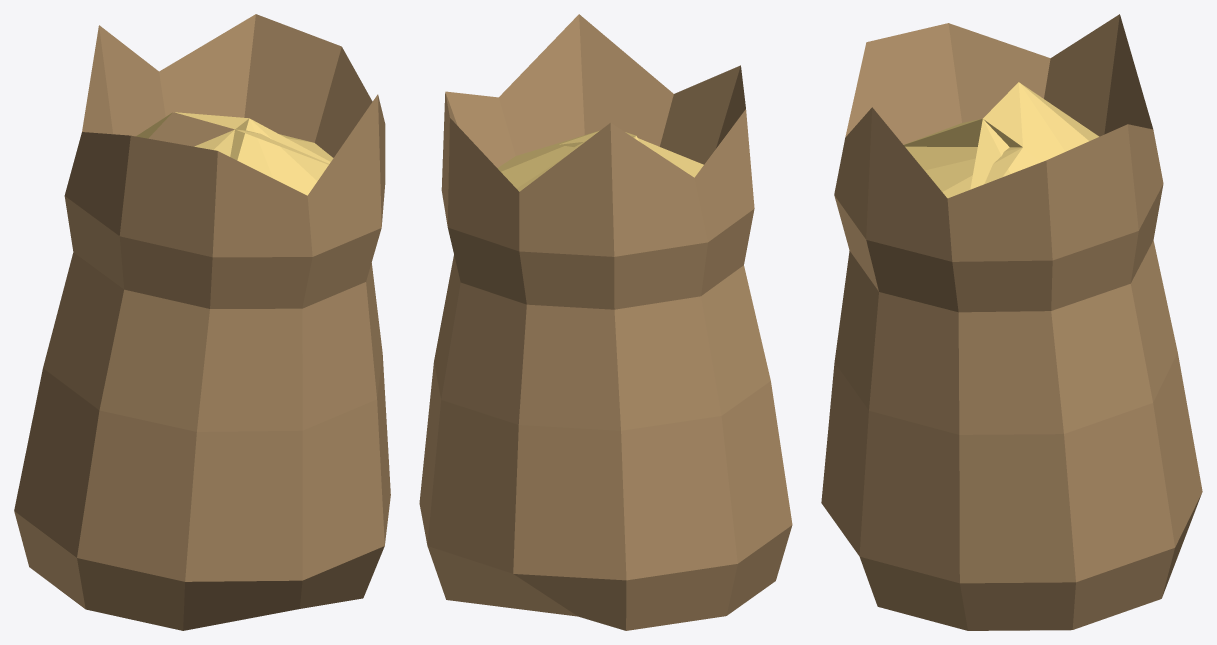
The model's file is sack2.fbx.
The picture shows the model from 3 angles, left to right: view 1: azimuth 30°, elevation 25°; view 2: azimuth 150°, elevation 25°; view 3: azimuth 270°, elevation 25°; orthographic projection. The views are drawn at different scales.
Visible parts, largest first — view 1: Sack_Left; view 2: Sack_Left; view 3: Sack_Left.
Part boxes in pixels (x1,y1,x2,y2): Sack_Left: [14, 14, 390, 630]; Sack_Left: [419, 14, 792, 630]; Sack_Left: [821, 14, 1202, 630].
Size of the model in its own units: 59.55 by 90.92 by 60.15.
